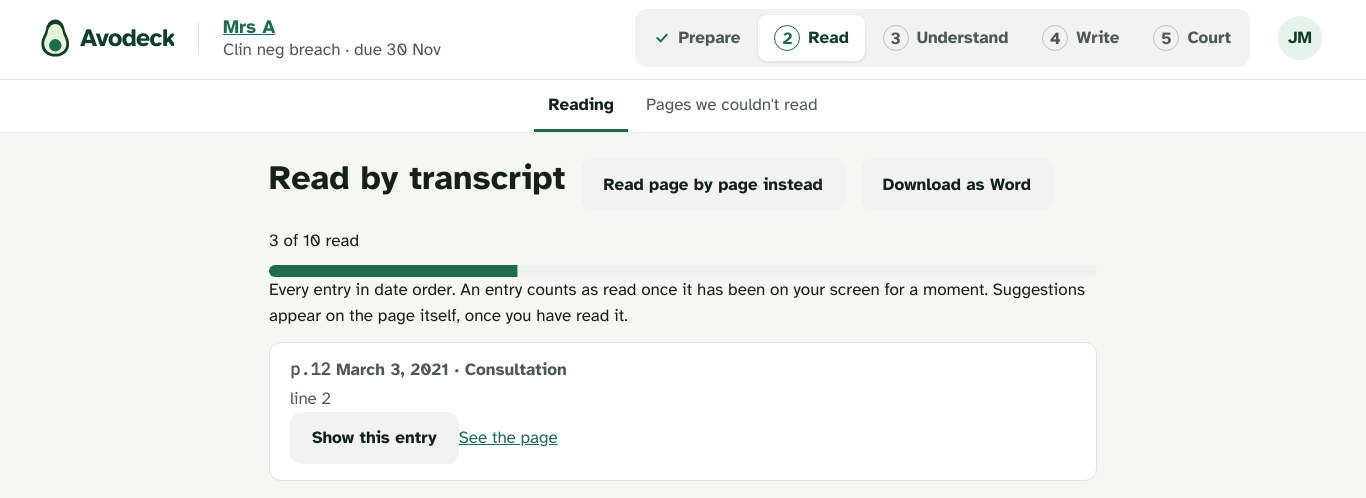
Test: Reading by transcript under the launch packs › a folded entry is not watched until it is unfolded
Expected: the element named "Entry on page 12" is shown, top-left (269, 342), bottom-right (1097, 481)
Click the button "Show this entry" at (374, 438), box top-left (290, 412), bottom-right (459, 464)
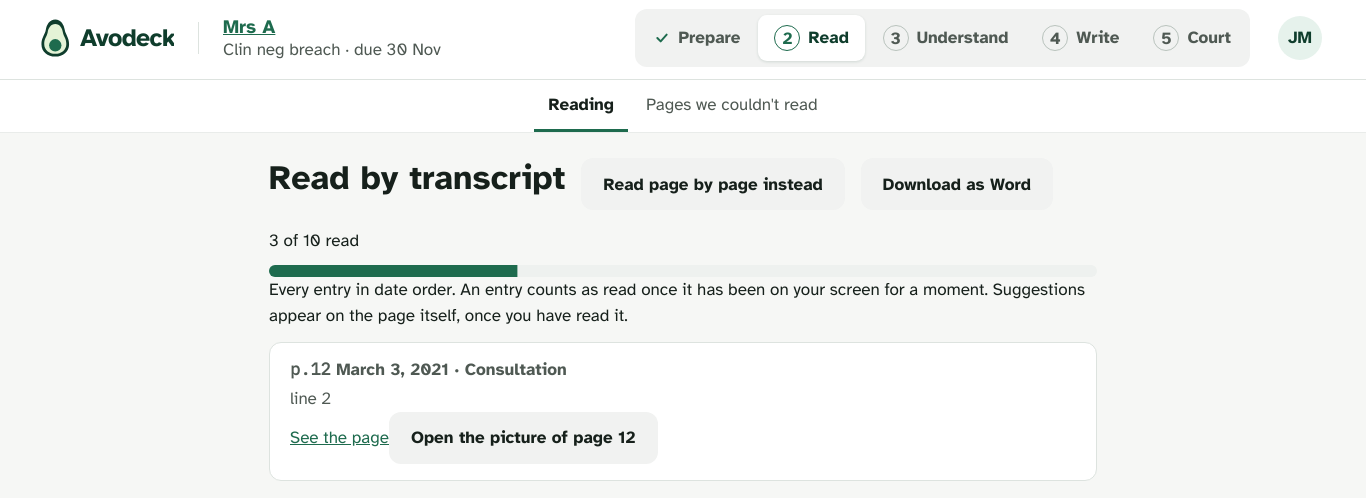
Now the button "Show this entry" is gone
